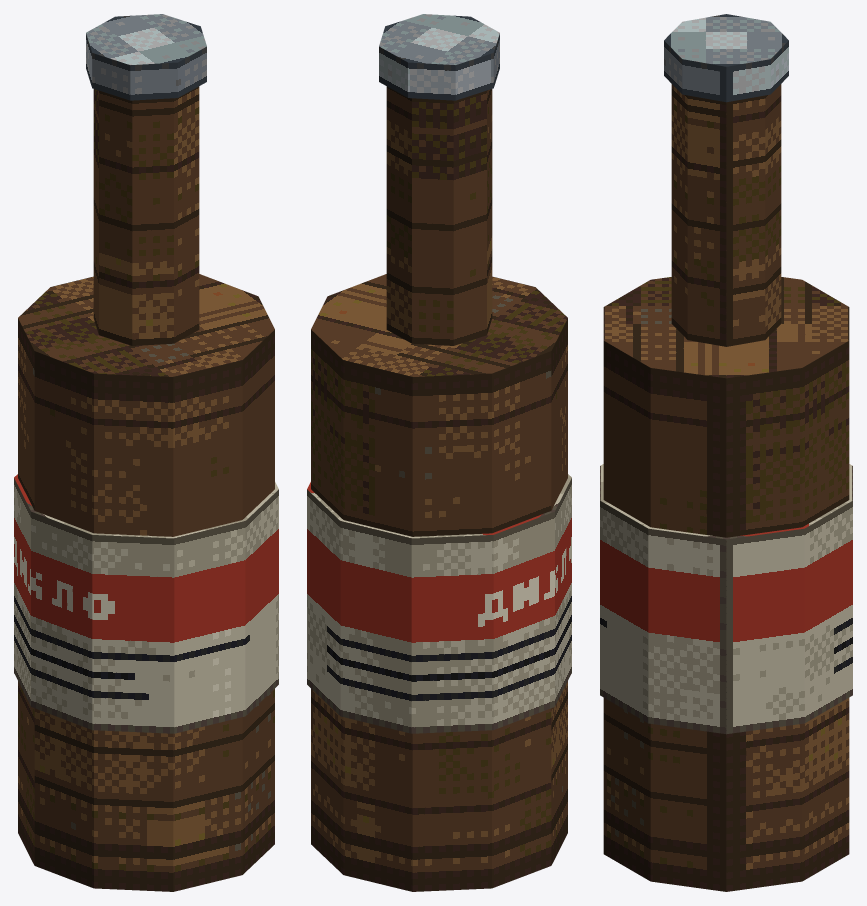
File: SM_Bottle_Beer_01.glb
3 renders of one model, left to right at view 1: azimuth 30°, elevation 25°; view 2: azimuth 150°, elevation 25°; view 3: azimuth 270°, elevation 25°, orthographic.
Parts seen in each view (by area): view 1: SM_Bottle_Beer_01; view 2: SM_Bottle_Beer_01; view 3: SM_Bottle_Beer_01.
Boxes of the visible parts, box(x1,y1,x2,y2) form: SM_Bottle_Beer_01: box(14, 14, 278, 891); SM_Bottle_Beer_01: box(307, 14, 571, 891); SM_Bottle_Beer_01: box(600, 14, 852, 891).
Size of the model in its own units: 0.068 by 0.225 by 0.0647.
1 material, 1 textured.
